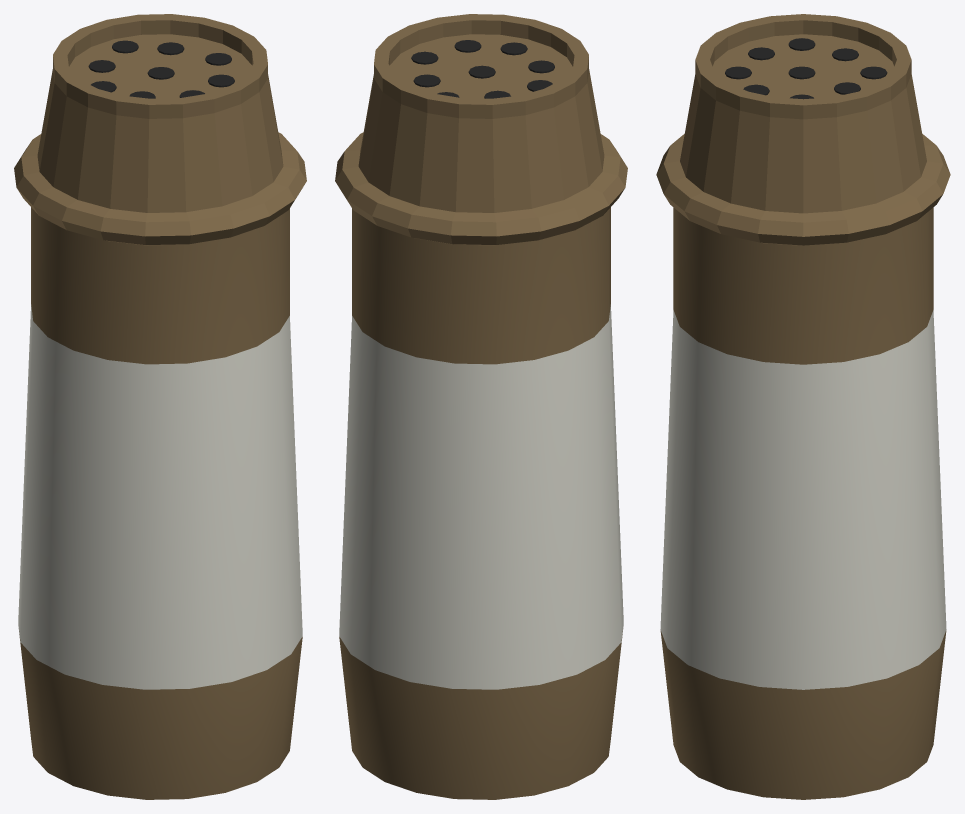
Rendered from SaltShaker.fbx.
3 renders of one model, left to right at view 1: azimuth 30°, elevation 25°; view 2: azimuth 150°, elevation 25°; view 3: azimuth 270°, elevation 25°, orthographic.
Parts seen in each view (by area): view 1: SaltShaker; view 2: SaltShaker; view 3: SaltShaker.
Boxes of the visible parts, <box> form: SaltShaker: <box>14,14,306,799</box>; SaltShaker: <box>335,14,627,799</box>; SaltShaker: <box>656,14,950,799</box>.
Size of the model in its own units: 0.00253 by 0.0065 by 0.00253.
